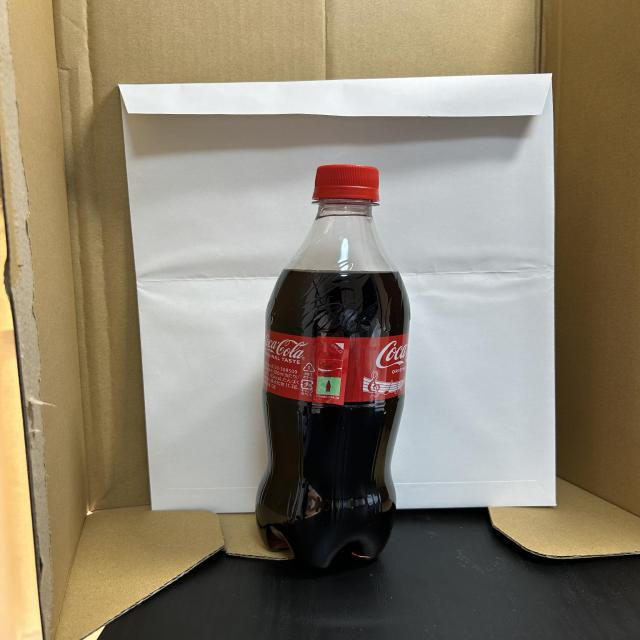high: (255, 163, 410, 567)
